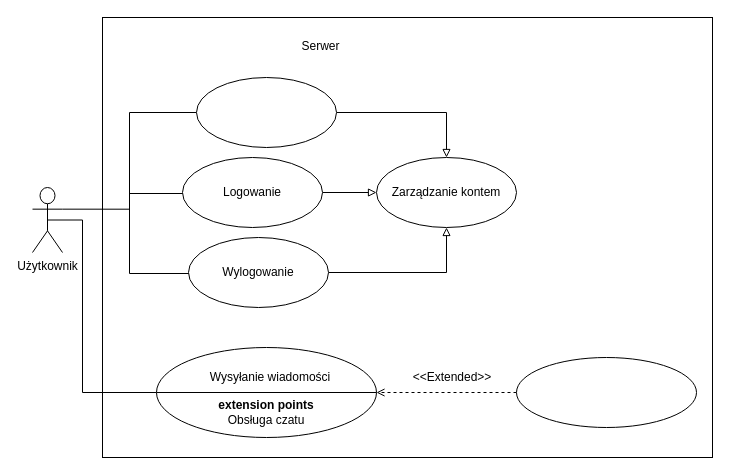
This 730x475 diagram has some shape labels left out. Each missing label, with the centre of its shape:
Przesyłanie wiadomości do wszystkich zalogowanych użytkowników: (606,392)
Rejestracja: (266,112)
